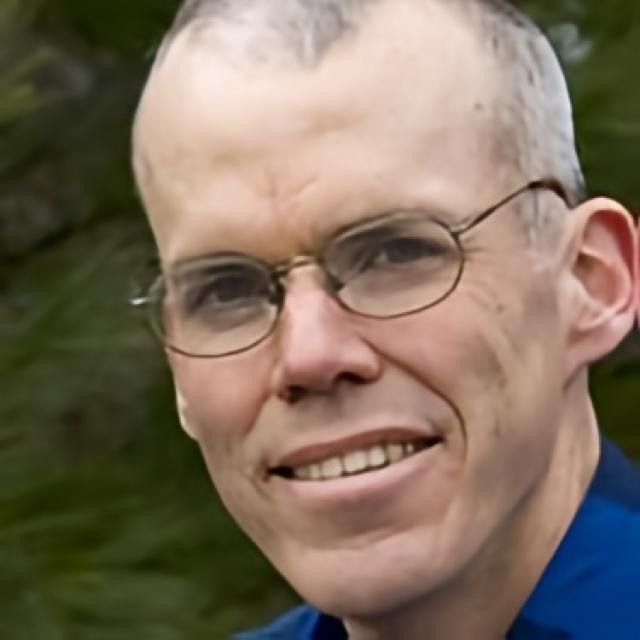disgust: (160, 53, 560, 619)
